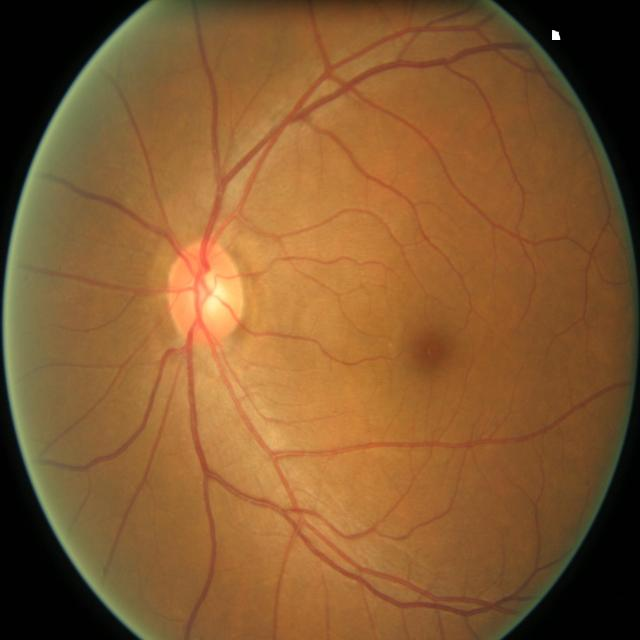OC: (198, 274, 222, 312)
OD: (168, 239, 246, 345)
